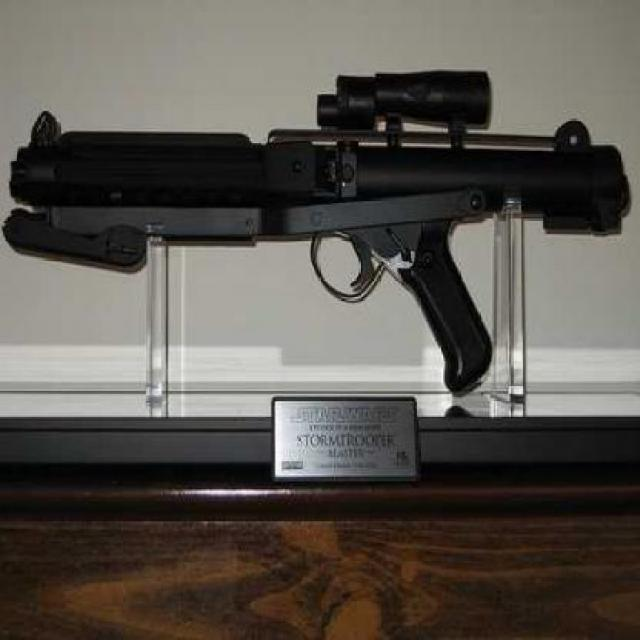weapon: (25, 75, 622, 381)
